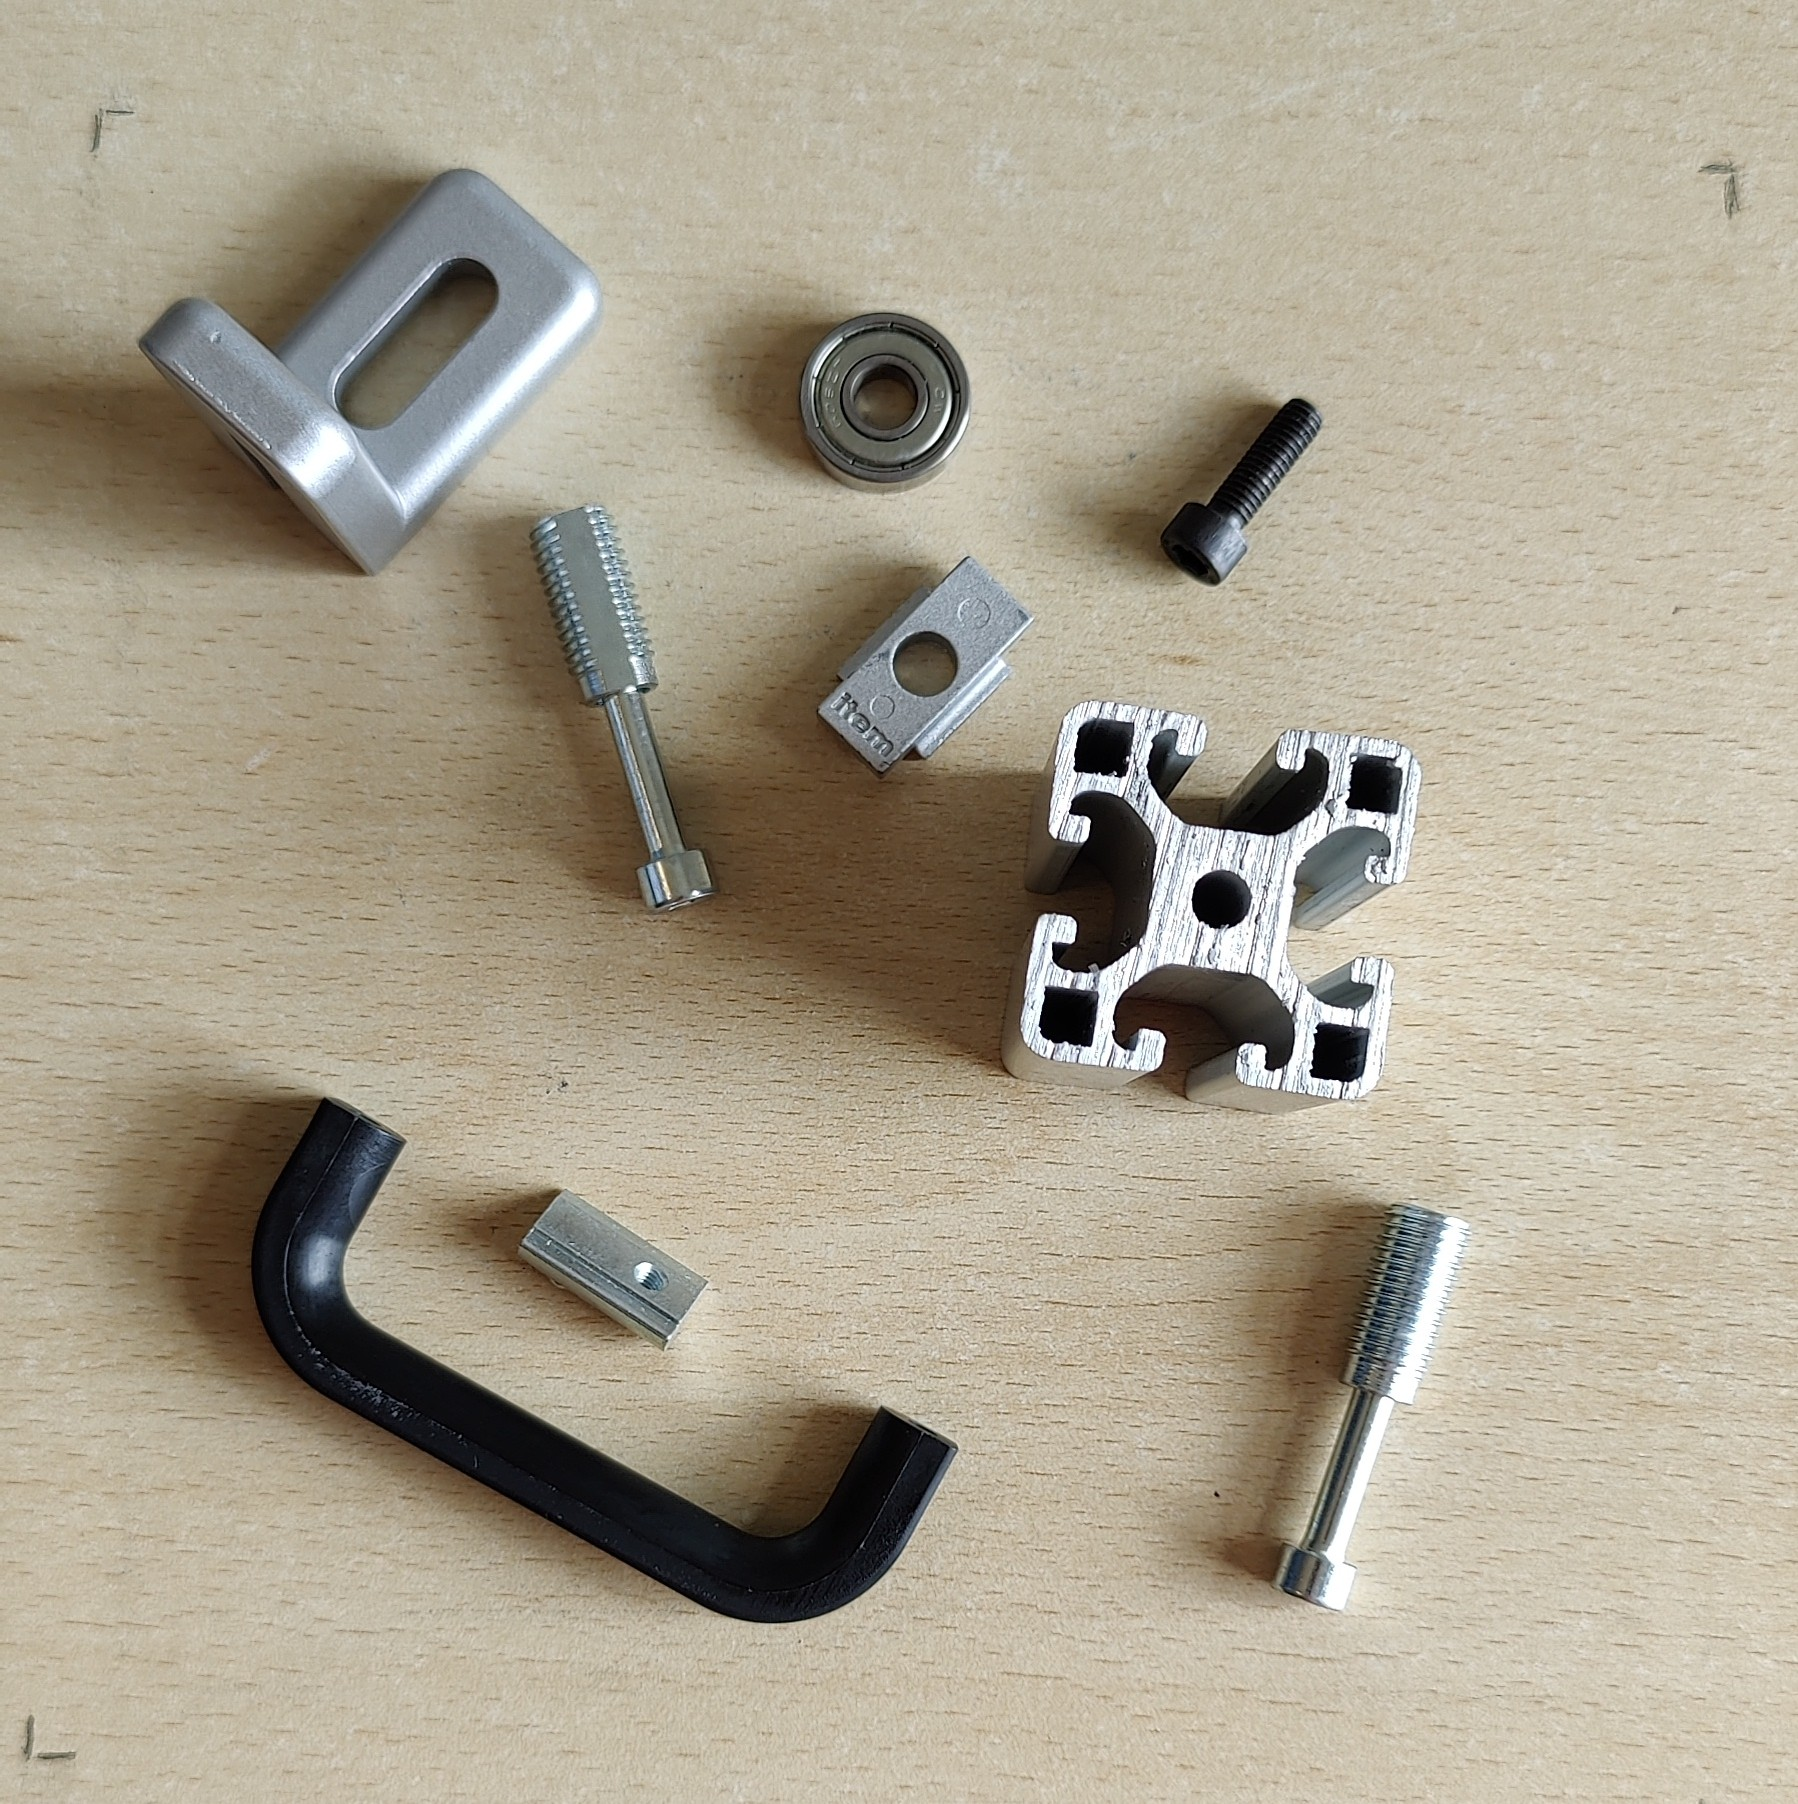Aluminium Extension: (994, 700, 1421, 1118)
Ball Bearing: (795, 309, 975, 495)
Multiwinkel: (133, 161, 608, 578)
Pull Handle: (245, 1095, 962, 1626)
Shoulder Socket Head Cap Screw: (1268, 1198, 1470, 1615), (524, 500, 723, 917)
Socket Head Cap Screw: (1159, 393, 1329, 591)
T Nut Square: (812, 551, 1037, 780)
T Spring Nut: (510, 1188, 710, 1351)
